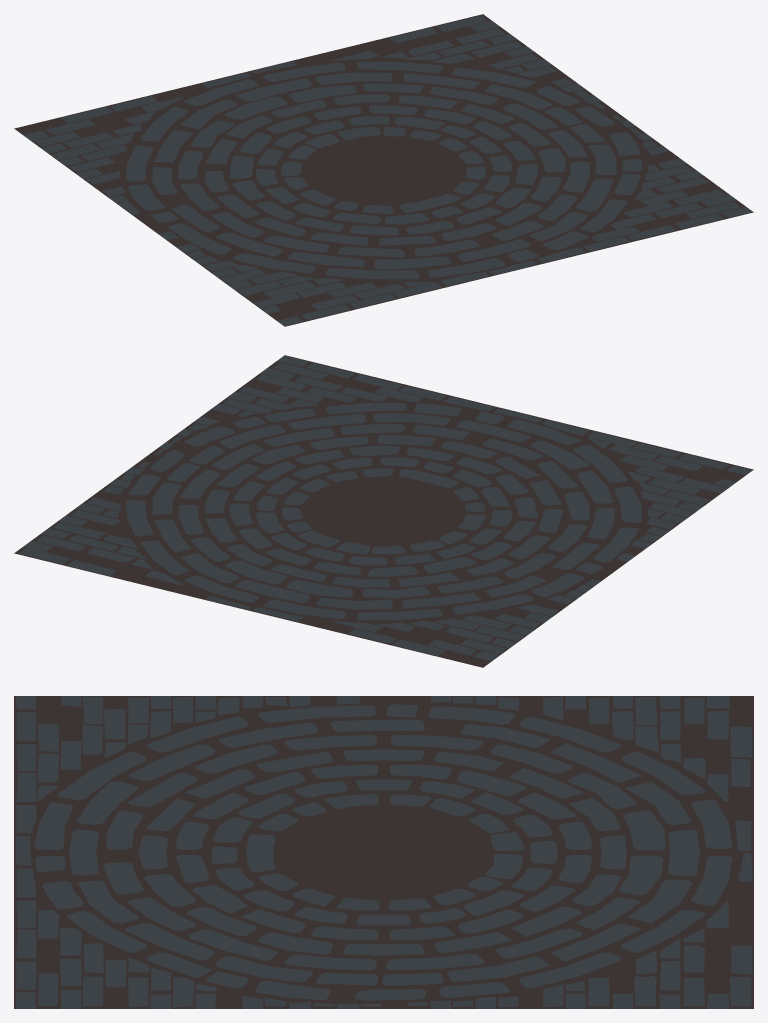
File: 20C_BG_groundPattern01_10M.fbx
3 views of the same model, one above another, from view 1: azimuth 30°, elevation 25°; view 2: azimuth 150°, elevation 25°; view 3: azimuth 270°, elevation 25° (orthographic). The views are drawn at different scales.
Visible parts, largest first — view 1: 20C_BG_groundPattern01_10M; view 2: 20C_BG_groundPattern01_10M; view 3: 20C_BG_groundPattern01_10M.
Part boxes in pixels (bbox=[...]): 20C_BG_groundPattern01_10M: bbox=[14, 14, 753, 326]; 20C_BG_groundPattern01_10M: bbox=[14, 355, 753, 667]; 20C_BG_groundPattern01_10M: bbox=[14, 696, 753, 1008].
Size of the model in its own units: 100 by 1.75e-05 by 100.
